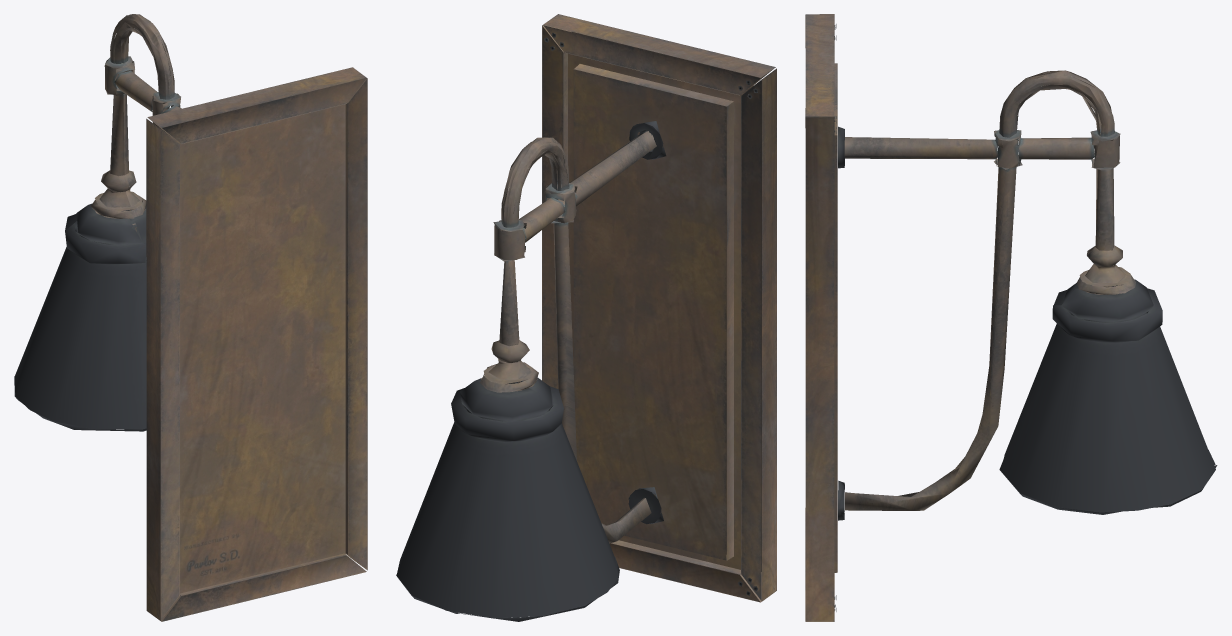
3 views of the same model, side by side, from view 1: azimuth 30°, elevation 25°; view 2: azimuth 150°, elevation 25°; view 3: azimuth 270°, elevation 25° (orthographic). The views are drawn at different scales.
Visible parts, largest first — view 1: industrial_wall_sconce.001; view 2: industrial_wall_sconce.001; view 3: industrial_wall_sconce.001.
Boxes of the visible parts, box(x1,y1,x2,y2) form: industrial_wall_sconce.001: box(14, 14, 367, 621); industrial_wall_sconce.001: box(396, 14, 776, 621); industrial_wall_sconce.001: box(805, 14, 1217, 621).
Size of the model in its own units: 0.15 by 0.3418 by 0.2527.
Materials: 2 (2 with a texture image).
